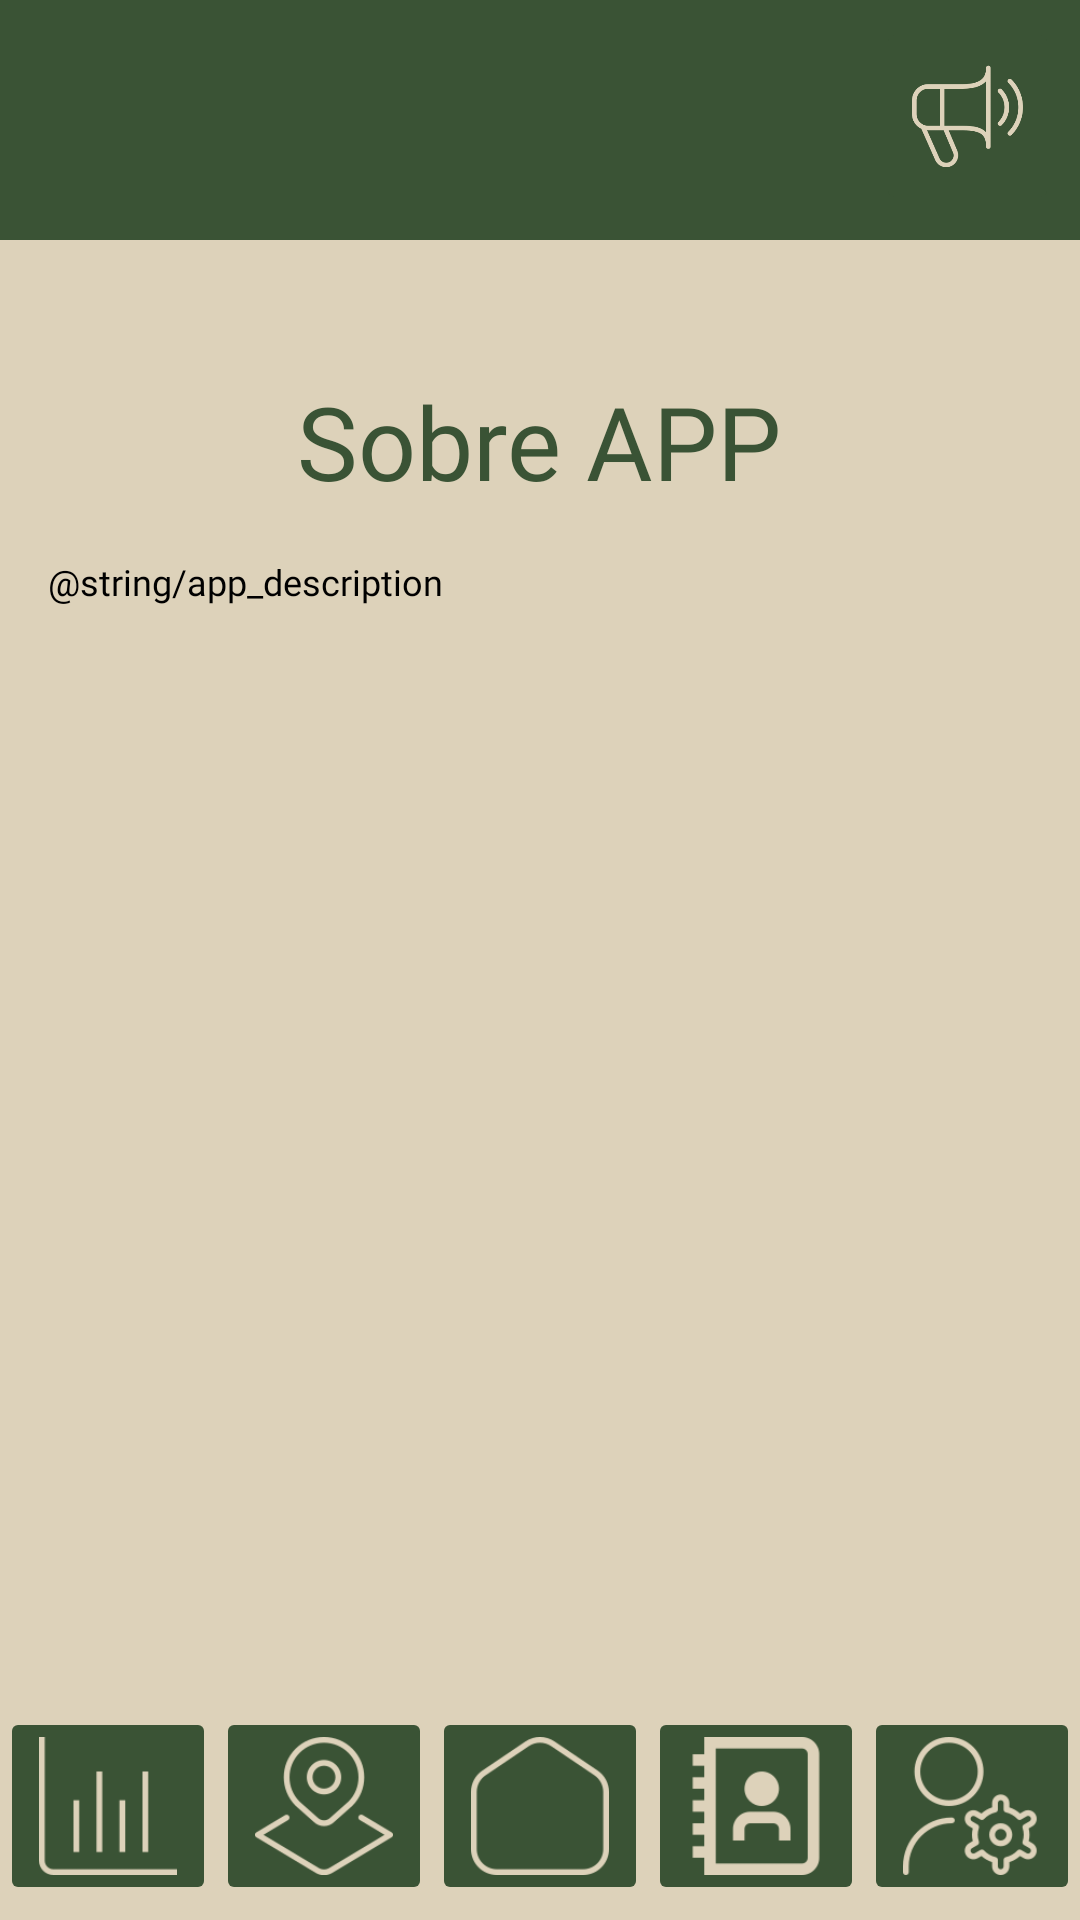

Icons on this 1080px x 1920px Android screen, each with its box as box(x1, y1, x2, y2):
Boton para ir a la pagina de anuncios: box(912, 65, 1023, 167)
Botón de inicio: box(444, 1725, 636, 1887)
Botón para ir a la página de agenda: box(660, 1725, 852, 1887)
Botón para ir a la página de ajustes de usuario: box(876, 1725, 1068, 1887)
Botón para ir a la página de gráficas: box(12, 1725, 204, 1887)
Botón para ir a la página de mapa: box(228, 1725, 420, 1887)
